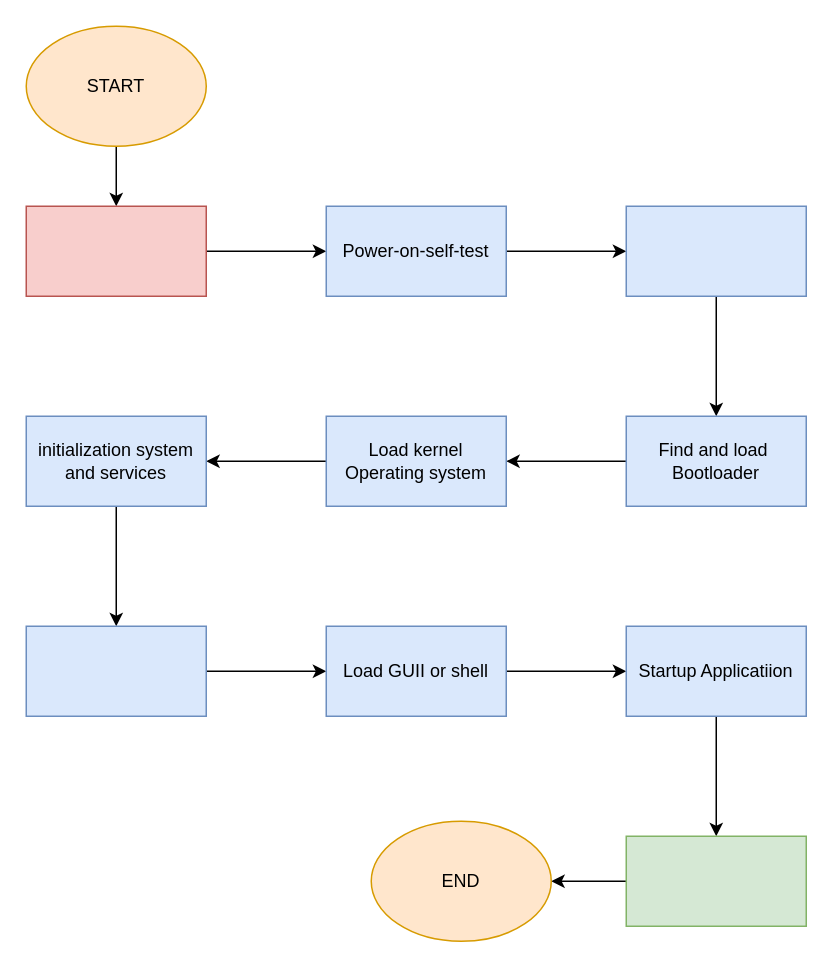
This 833x968 diagram has some shape labels left out. The centre of each missing label's shape, as x and y in pixels:
initializaiton BIOS/UEFI: [715,250]
Login and shell initialization: [115,670]
Power on: [115,250]
System ready to use: [715,880]
